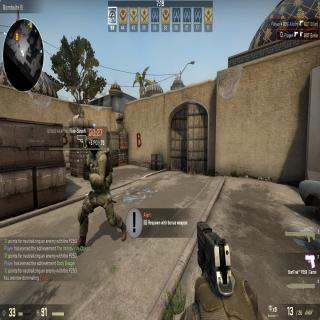CT-Body: (76, 131, 120, 252)
CT-Head: (83, 128, 105, 159)
